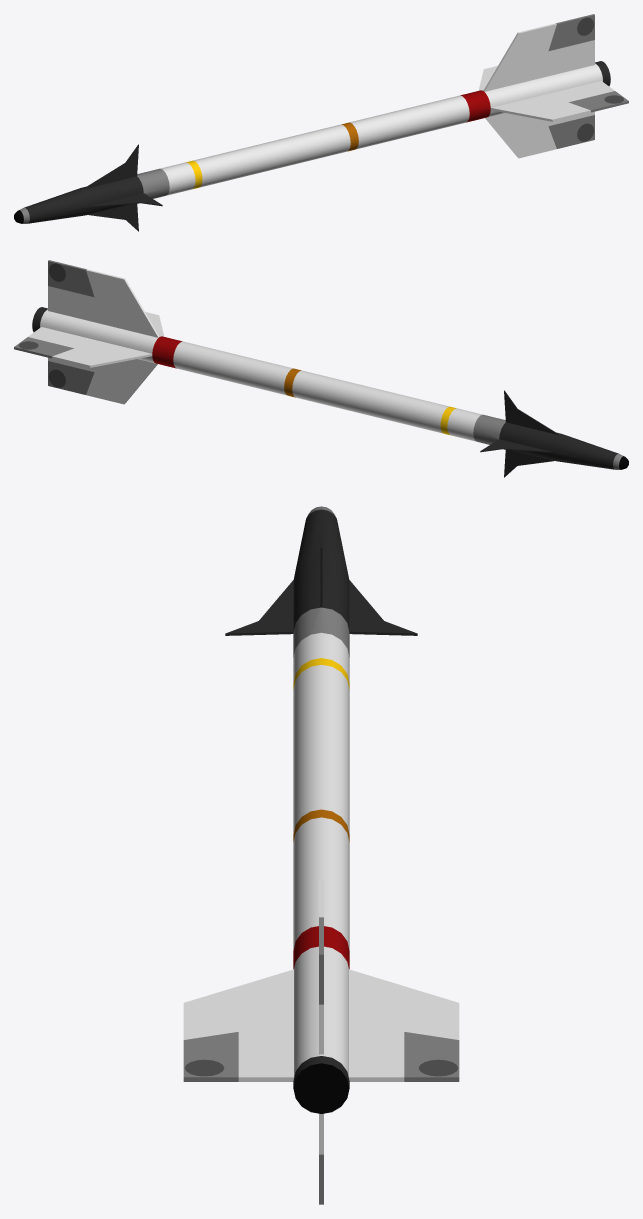
Rendered from AIM-9L.glb.
3 views of the same model, one above another, from view 1: azimuth 30°, elevation 25°; view 2: azimuth 150°, elevation 25°; view 3: azimuth 270°, elevation 25° (orthographic). The views are drawn at different scales.
Visible parts, largest first — view 1: Body; view 2: Body; view 3: Body.
Boxes of the visible parts, x1,y1,x2,y2 form: Body: (14, 14, 628, 231); Body: (14, 260, 628, 477); Body: (183, 506, 459, 1204).
Size of the model in its own units: 3.08 by 0.6248 by 0.6248.
Materials: 1 (1 with a texture image).
